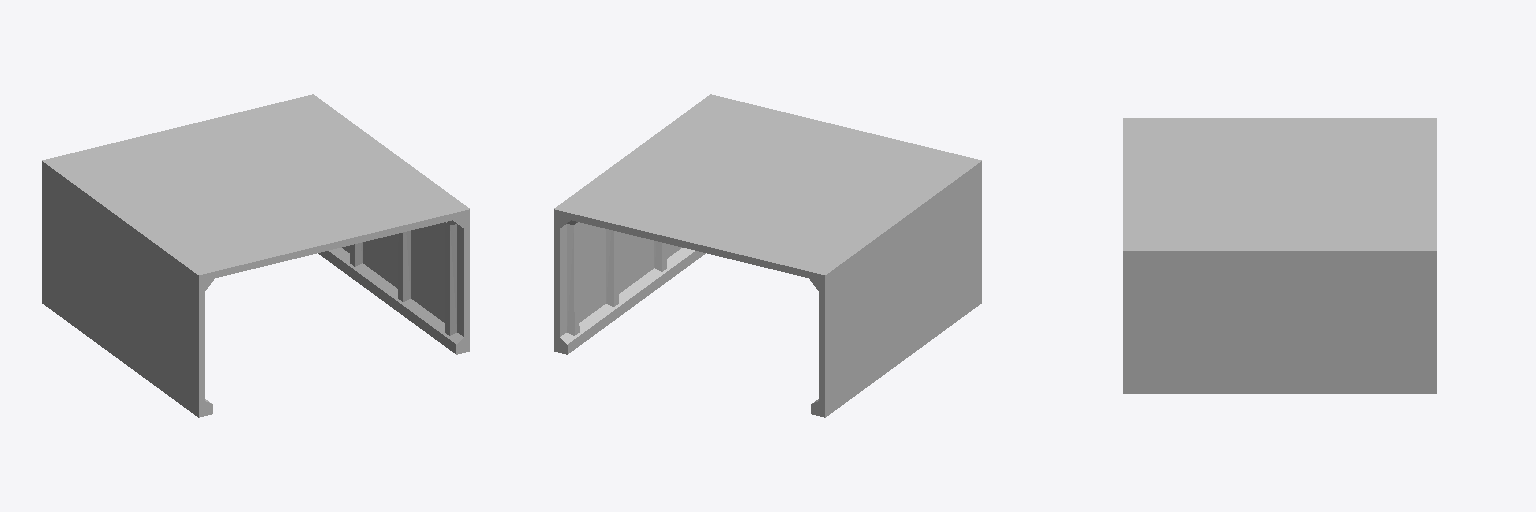
The model's file is SciFi_Building_Underpass.obj.
3 views of the same model, side by side, from view 1: azimuth 30°, elevation 25°; view 2: azimuth 150°, elevation 25°; view 3: azimuth 270°, elevation 25° (orthographic).
Visible parts, largest first — view 1: SM_Bld_Underpass_01, SM_Bld_Underpass_01.002, SM_Bld_Underpass_01.001; view 2: SM_Bld_Underpass_01, SM_Bld_Underpass_01.002, SM_Bld_Underpass_01.001; view 3: SM_Bld_Underpass_01, SM_Bld_Underpass_01.001.
Boxes of the visible parts, x1,y1,x2,y2 form: SM_Bld_Underpass_01: [42, 94, 469, 293]; SM_Bld_Underpass_01.002: [42, 180, 212, 417]; SM_Bld_Underpass_01.001: [318, 222, 469, 354]; SM_Bld_Underpass_01: [554, 94, 981, 293]; SM_Bld_Underpass_01.002: [811, 180, 981, 417]; SM_Bld_Underpass_01.001: [554, 222, 705, 354]; SM_Bld_Underpass_01: [1123, 118, 1436, 269]; SM_Bld_Underpass_01.001: [1123, 270, 1436, 393].
Bounding box in the file's own units: 2 × 1 × 2.